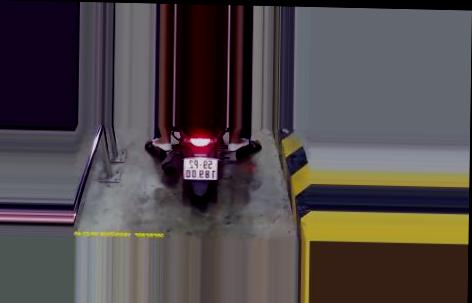License_Plate: (180, 155, 220, 183)
